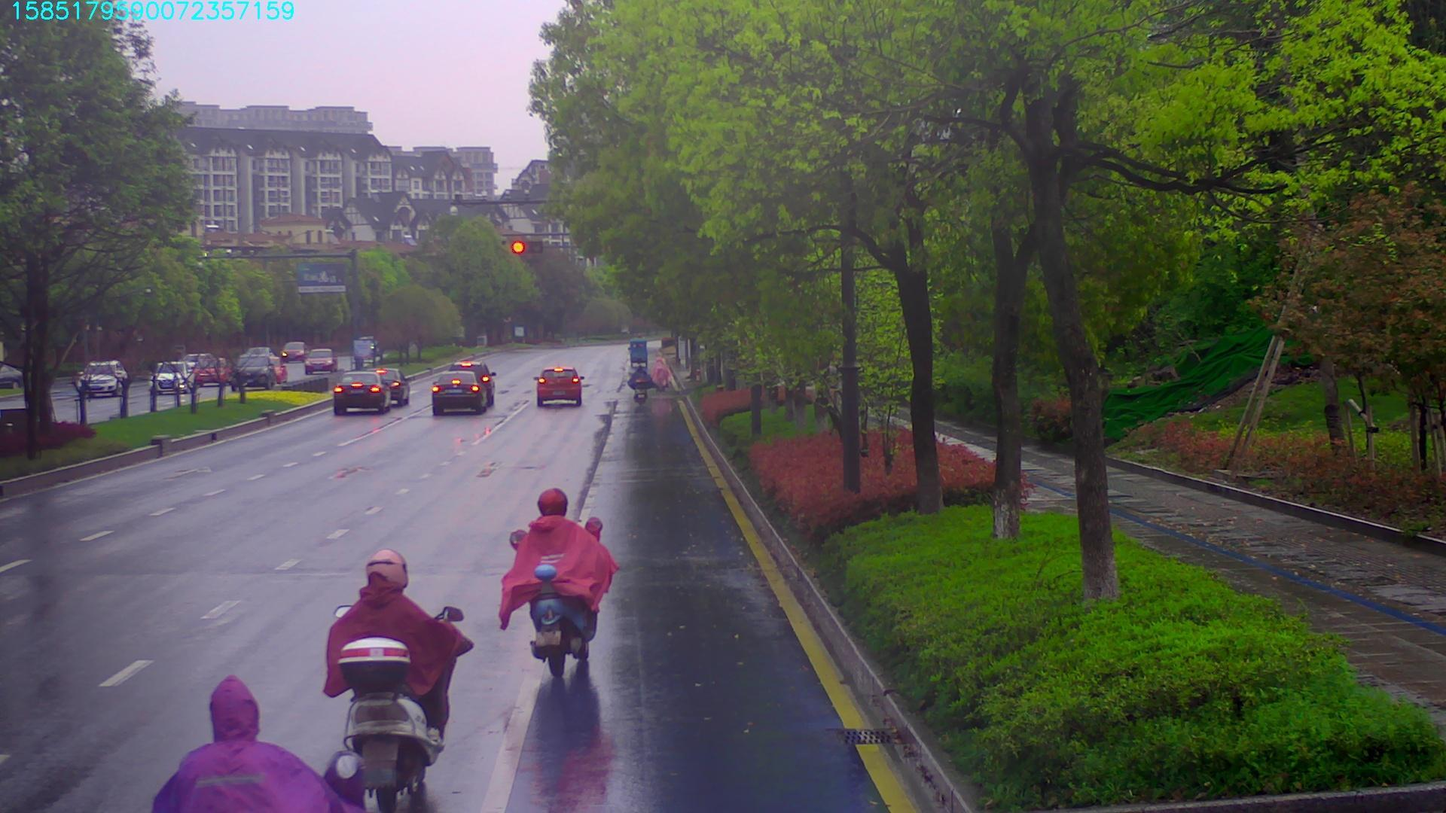red: (508, 238, 535, 254)
